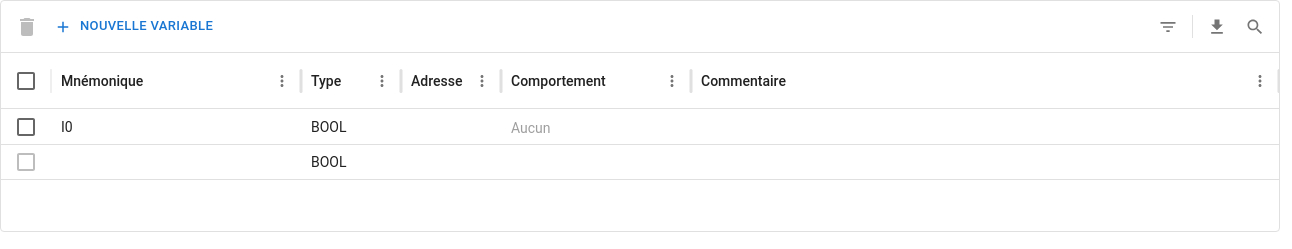
Test: VariablesTable — projet en lecture seule › ne propose pas l'export PDF quand le store ne sait pas exporter
Click the button named "Exporter". click: (1217, 26)
box: top-left (1199, 8), bottom-right (1235, 44)
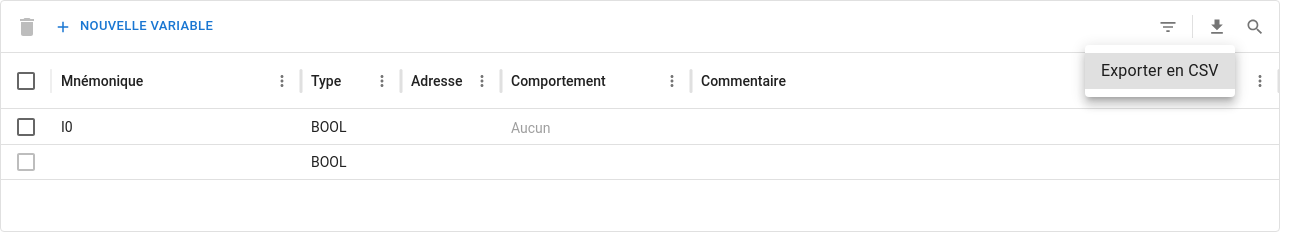
Expected: the menu item "Exporter en CSV" is shown, top-left (1085, 53), bottom-right (1235, 89)
